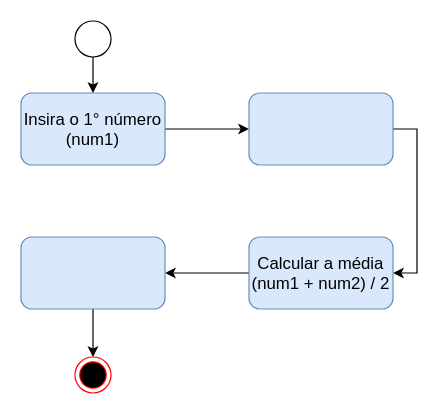
Image size: 448x414. Some labels were removed from this diagram. The centre of each missing label's shape, as x and y in pixels:
Exibir a média: [92,272]
Insira o 2° número (num2): [320,128]
